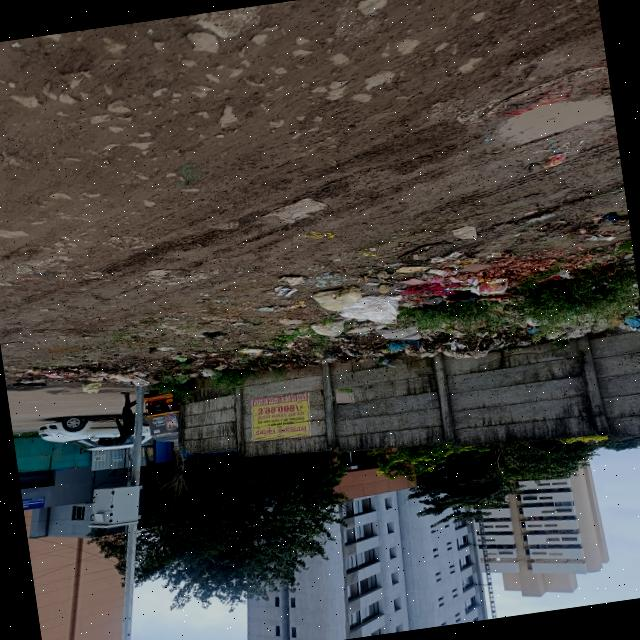garbage: (323, 234, 640, 372), (71, 333, 334, 400)
